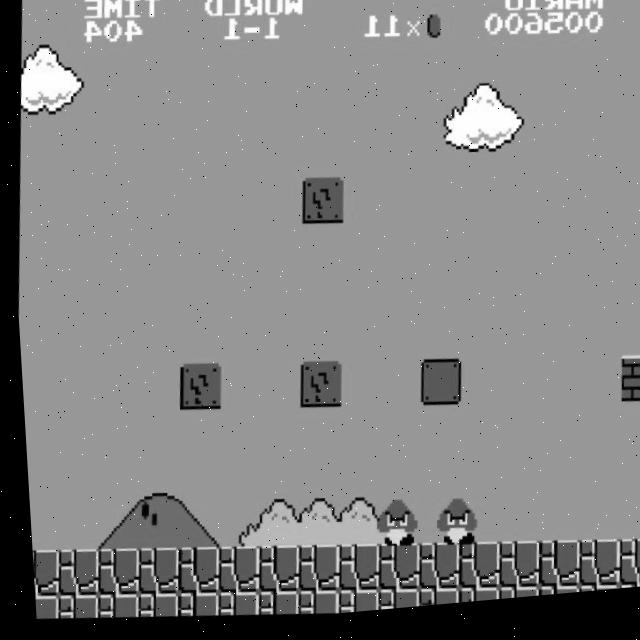1- brick_block: (614, 364, 640, 415)
13- mystery_block: (296, 180, 343, 231), (292, 363, 338, 415), (172, 363, 218, 415)
17- undestructible_block: (528, 547, 575, 599), (568, 547, 614, 599), (488, 547, 534, 599), (448, 547, 494, 599), (408, 547, 454, 599), (368, 547, 414, 599), (328, 547, 374, 599), (288, 547, 334, 599), (248, 547, 294, 599), (208, 547, 254, 599), (168, 547, 214, 599), (128, 547, 174, 599), (88, 547, 134, 599), (48, 547, 94, 599), (609, 548, 640, 598), (26, 546, 54, 597), (288, 592, 332, 621), (248, 592, 292, 621), (208, 592, 252, 621), (168, 592, 212, 621), (128, 593, 172, 622), (88, 592, 132, 621), (48, 593, 92, 622), (328, 592, 372, 619), (368, 592, 412, 616), (408, 592, 452, 613), (448, 592, 492, 611), (488, 592, 532, 608), (28, 592, 52, 620), (528, 592, 572, 605), (568, 592, 612, 602)
3- empty_block: (412, 363, 459, 415)
8- goomba: (367, 500, 415, 556), (427, 501, 475, 556)
